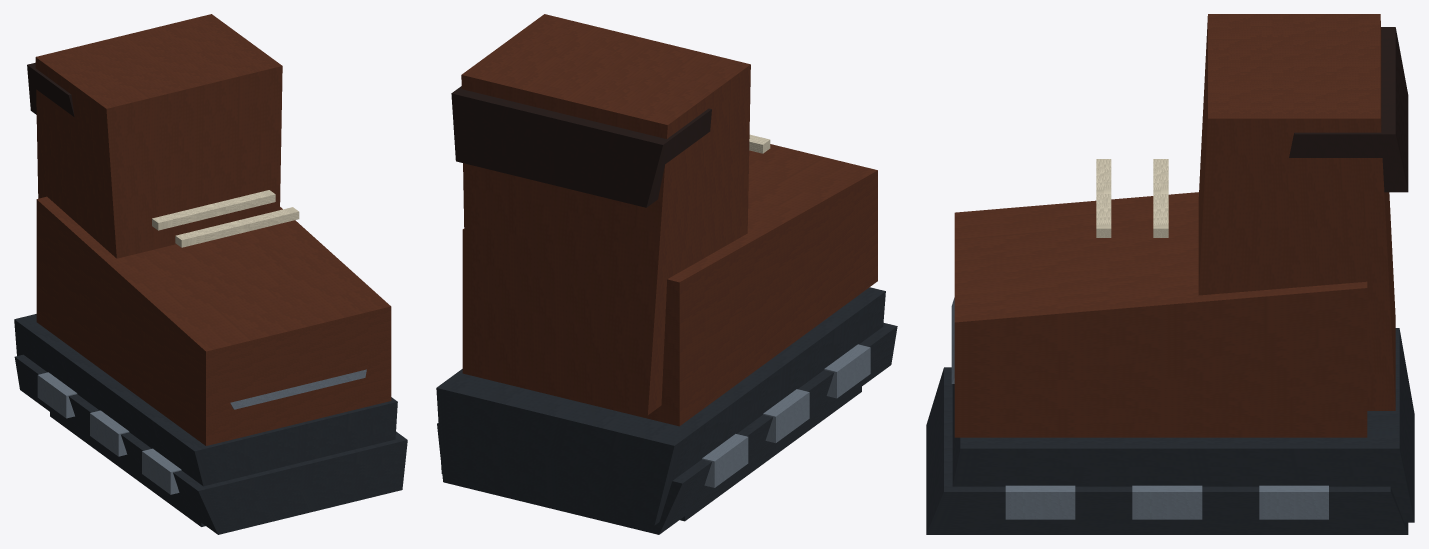
File: meteor_platform.gltf
The picture shows the model from 3 angles, left to right: view 1: azimuth 30°, elevation 25°; view 2: azimuth 150°, elevation 25°; view 3: azimuth 270°, elevation 25°; orthographic projection. The views are drawn at different scales.
Visible parts, largest first — view 1: Meteor Platform Boots; view 2: Meteor Platform Boots; view 3: Meteor Platform Boots.
Boxes of the visible parts, x1,y1,x2,y2 form: Meteor Platform Boots: [14, 14, 407, 534]; Meteor Platform Boots: [436, 14, 897, 534]; Meteor Platform Boots: [926, 14, 1414, 534].
Size of the model in its own units: 0.237 by 0.369 by 0.385.
Materials: 5 (5 with a texture image).
